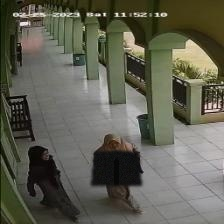Cadar_Niqab: (91, 133, 141, 185)
